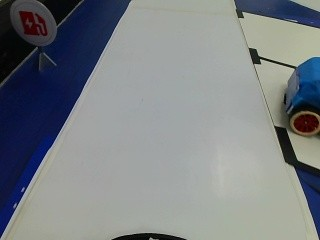battery: (7, 0, 61, 45)
car: (287, 59, 318, 134)
